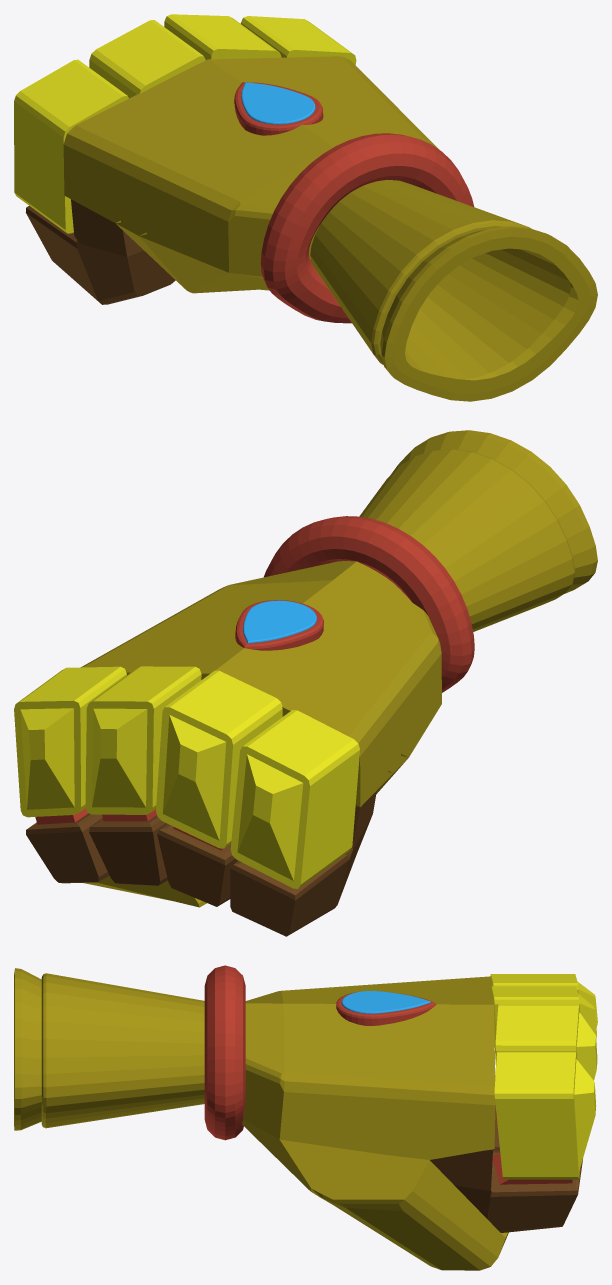
File: Astropunch DX old.fbx
3 renders of one model, top to bottom at view 1: azimuth 30°, elevation 25°; view 2: azimuth 150°, elevation 25°; view 3: azimuth 270°, elevation 25°, orthographic. The views are drawn at different scales.
Visible parts, largest first — view 1: Dorso, Avambraccio, Polsino, Nocca.003, Mignolo, Nocca.002, Gem, Nocca.001, Nocca; view 2: Dorso, Avambraccio, Nocca.003, Nocca.002, Polsino, Nocca.001, Nocca, Mignolo, Medio, Anulare, Indice, Gem; view 3: Dorso, Avambraccio, Nocca, Polsino, Nocca.001, Indice, Gem, Cube.001, Nocca.002, Nocca.003.
Part boxes in pixels (<box>): Dorso: <box>63,56,439,293</box>; Avambraccio: <box>310,180,597,401</box>; Polsino: <box>260,133,474,323</box>; Nocca.003: <box>14,59,128,233</box>; Mignolo: <box>25,199,175,304</box>; Nocca.002: <box>89,20,205,98</box>; Gem: <box>234,82,323,135</box>; Nocca.001: <box>164,14,281,59</box>; Nocca: <box>240,16,356,64</box>; Dorso: <box>80,561,441,907</box>; Avambraccio: <box>359,430,597,631</box>; Nocca.003: <box>230,710,359,888</box>; Nocca.002: <box>156,670,282,848</box>; Polsino: <box>264,516,474,692</box>; Nocca.001: <box>85,666,201,814</box>; Nocca: <box>14,666,126,817</box>; Mignolo: <box>230,791,376,936</box>; Medio: <box>89,809,167,885</box>; Anulare: <box>157,824,238,906</box>; Indice: <box>26,808,109,883</box>; Gem: <box>235,600,323,650</box>; Dorso: <box>242,976,508,1270</box>; Avambraccio: <box>14,968,204,1130</box>; Nocca: <box>494,1051,596,1179</box>; Polsino: <box>204,965,245,1140</box>; Nocca.001: <box>495,1004,597,1080</box>; Indice: <box>487,1151,582,1232</box>; Gem: <box>336,991,436,1025</box>; Cube.001: <box>430,1149,492,1218</box>; Nocca.002: <box>491,986,596,1065</box>; Nocca.003: <box>490,974,597,1064</box>.
Bounding box in the file's own units: 259 × 222 × 485.
